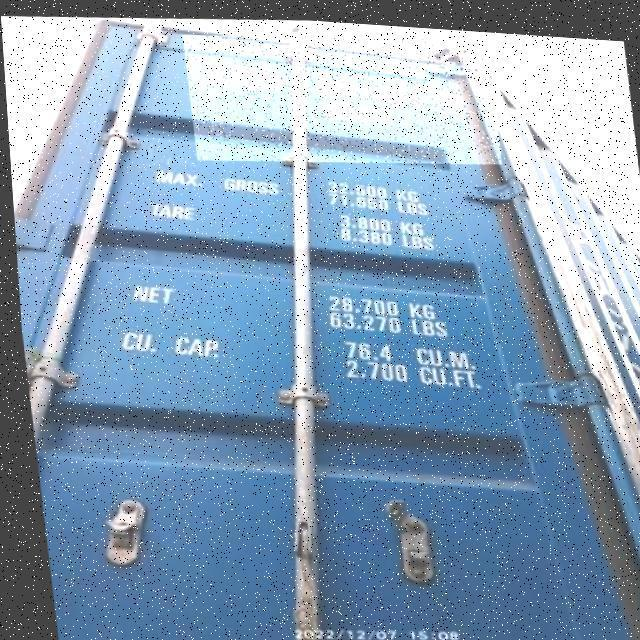container_number_h: (182, 17, 501, 174)
